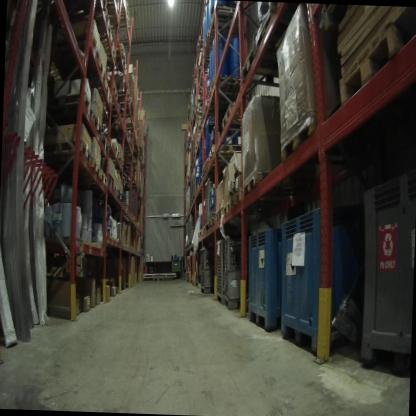pallet: (334, 13, 416, 112), (280, 113, 360, 168), (237, 45, 303, 93), (249, 10, 304, 64), (244, 171, 318, 203), (230, 188, 308, 217), (50, 28, 99, 72), (209, 72, 256, 109), (48, 90, 96, 126), (56, 58, 107, 91), (220, 101, 256, 138), (41, 139, 93, 164), (201, 102, 247, 128), (206, 142, 254, 166), (211, 4, 252, 32), (76, 10, 117, 36), (58, 157, 104, 180), (91, 33, 119, 63), (68, 0, 113, 16), (108, 47, 128, 73), (194, 31, 213, 54), (204, 28, 221, 51), (114, 9, 131, 32), (91, 115, 104, 140), (99, 168, 112, 192), (104, 80, 114, 109), (117, 39, 128, 64), (110, 0, 123, 20), (100, 130, 110, 155), (222, 198, 233, 219), (109, 143, 122, 160), (214, 210, 225, 229), (193, 137, 202, 157), (201, 163, 210, 181), (113, 81, 120, 103), (107, 170, 114, 192), (209, 215, 217, 232), (112, 181, 119, 200), (193, 183, 200, 198), (118, 187, 124, 204), (119, 152, 124, 171), (152, 277, 164, 283), (199, 227, 204, 234), (202, 226, 205, 237)
stillage: (223, 234, 254, 313), (198, 241, 219, 296), (212, 231, 226, 311)
